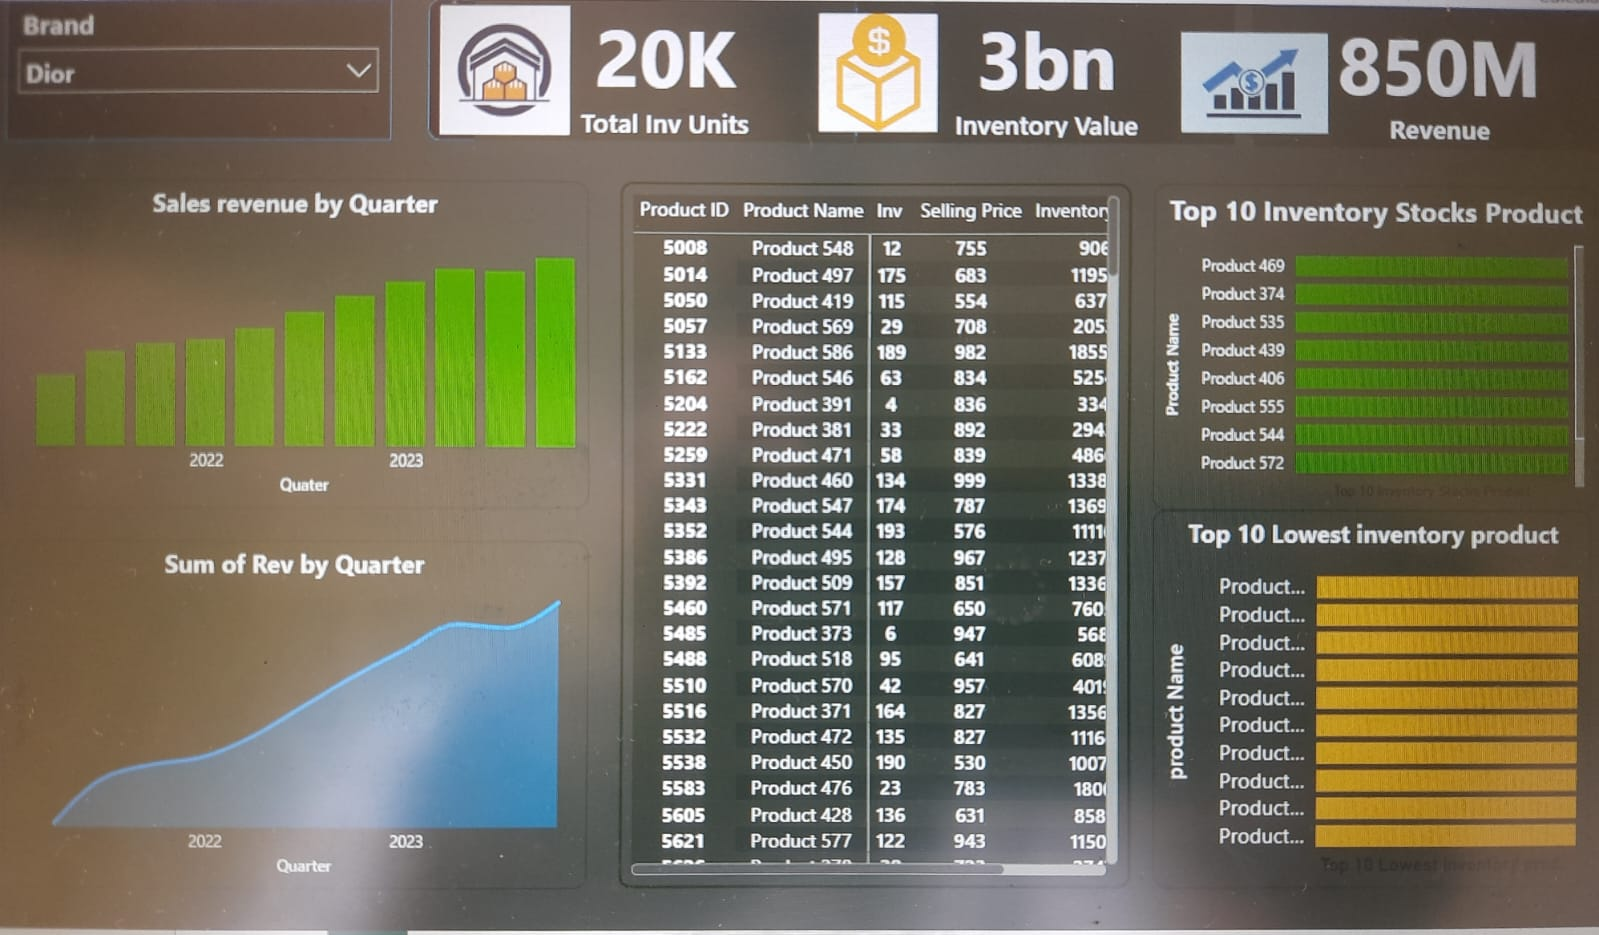

Layout of this report page (visuals, bound fields, positions):
{"tool":"powerbi","page":{"name":"Page 1","canvas":[1280,720],"ordinal":0},"visuals":[{"type":"pivotTable","fields":{"Rows":["Master.Product ID","Master.Product Name"],"Values":["Sum(Master.Inv)","calander.Total SP Value","calander.Inventory Value"]},"box":[495,140,396.7,546.7],"z":0},{"type":"clusteredColumnChart","title":"Sales revenue by Quarter","fields":{"Category":["calander.Quarter"],"Y":["Sum(Sales.Rev)"]},"box":[18.3,140,451.7,253.3],"z":1000},{"type":"areaChart","fields":{"Category":["calander.Quarter"],"Y":["Sum(Sales.Rev)"]},"box":[18.3,418.3,451.7,268.3],"z":2000},{"type":"hundredPercentStackedBarChart","title":"Top 10 Inventory Stocks Product","fields":{"Category":["Master.Product Name"],"Y":["calander.Total Inv Units"]},"box":[910,140,348.3,253.3],"z":3000},{"type":"hundredPercentStackedBarChart","title":"Top 10 Lowest inventory product","fields":{"Category":["Master.Product Name"],"Y":["calander.Total Inv Units"]},"box":[910,393.3,343.3,293.3],"z":4000},{"type":"shape","box":[987.5,0,292.5,110],"z":5000},{"type":"shape","box":[677.5,0,292.5,110],"z":6000},{"type":"shape","box":[347.5,0,292.5,110],"z":7000},{"type":"card","fields":{"Values":["calander.Total Inv Units"]},"box":[383.3,0,293.3,110],"z":8000},{"type":"card","fields":{"Values":["calander.Inventory Value"]},"box":[678,0,294,110],"z":9000},{"type":"card","fields":{"Values":["Sum(Sales.Rev)"]},"box":[986.7,1.7,293.3,110],"z":10000},{"type":"shape","box":[18,0,300,110],"z":11000},{"type":"slicer","fields":{"Values":["Master.Brand"]},"box":[18,0,300,110],"z":12000},{"type":"image","box":[341.7,0,128.3,110],"z":13000},{"type":"image","box":[643.3,5,101.7,101.7],"z":14000},{"type":"image","box":[945,0,125,123.3],"z":15000}]}

Visuals, with their boxes on the page's 1280x720 design canvas (x1, y1, x2, y2). These are canvas units, not pixel positions in the 1599x935 screenshot, which may show the page scaled, cropped or inside an application window:
pivotTable - Master.Product ID x Master.Product Name: rect(495, 140, 892, 687)
"Sales revenue by Quarter" clusteredColumnChart: rect(18, 140, 470, 393)
areaChart - calander.Quarter x Sum(Sales.Rev): rect(18, 418, 470, 687)
"Top 10 Inventory Stocks Product" hundredPercentStackedBarChart: rect(910, 140, 1258, 393)
"Top 10 Lowest inventory product" hundredPercentStackedBarChart: rect(910, 393, 1253, 687)
shape: rect(988, 0, 1280, 110)
shape: rect(678, 0, 970, 110)
shape: rect(348, 0, 640, 110)
card - calander.Total Inv Units: rect(383, 0, 677, 110)
card - calander.Inventory Value: rect(678, 0, 972, 110)
card - Sum(Sales.Rev): rect(987, 2, 1280, 112)
shape: rect(18, 0, 318, 110)
slicer - Master.Brand: rect(18, 0, 318, 110)
image: rect(342, 0, 470, 110)
image: rect(643, 5, 745, 107)
image: rect(945, 0, 1070, 123)
